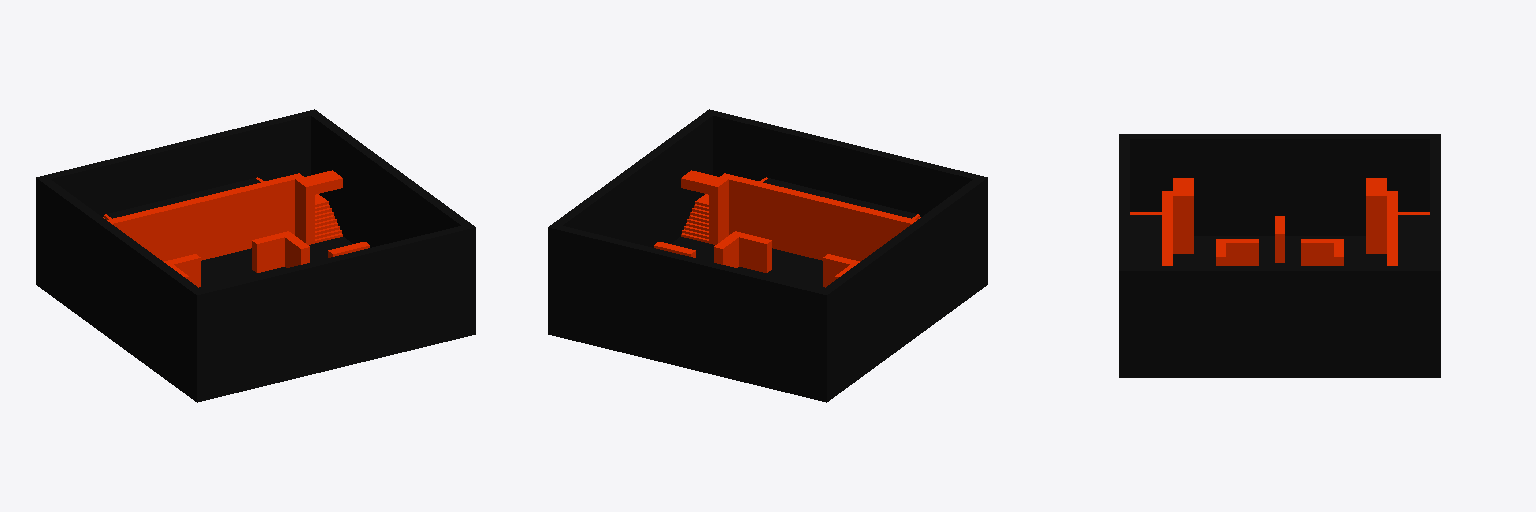
Rendered from map2.obj.
The picture shows the model from 3 angles: view 1: azimuth 30°, elevation 25°; view 2: azimuth 150°, elevation 25°; view 3: azimuth 270°, elevation 25°; orthographic projection.
Visible parts, largest first — view 1: unityexport; view 2: unityexport; view 3: unityexport.
Boxes of the visible parts, x1=… form: unityexport: x1=36, y1=109, x2=475, y2=402; unityexport: x1=548, y1=109, x2=987, y2=402; unityexport: x1=1119, y1=134, x2=1440, y2=377.
Size of the model in its own units: 30 by 11 by 30.